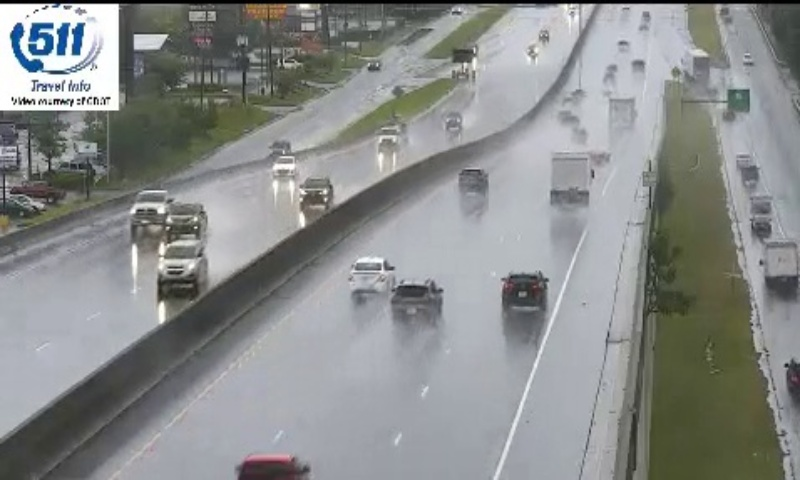car: (389, 278, 441, 320), (348, 257, 391, 295), (502, 272, 547, 308), (458, 167, 488, 192)
small-truck: (550, 152, 592, 205)
